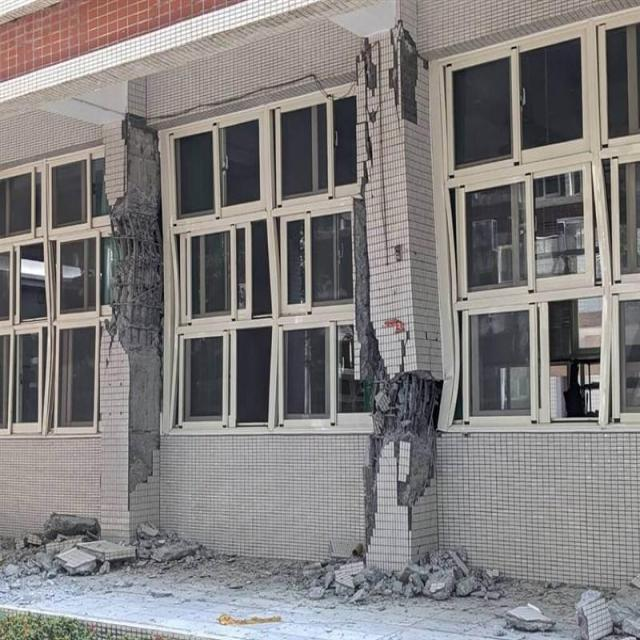damage: (350, 193, 450, 551), (98, 110, 168, 518), (3, 503, 210, 611), (281, 540, 493, 610), (493, 555, 640, 640), (357, 31, 425, 163)
